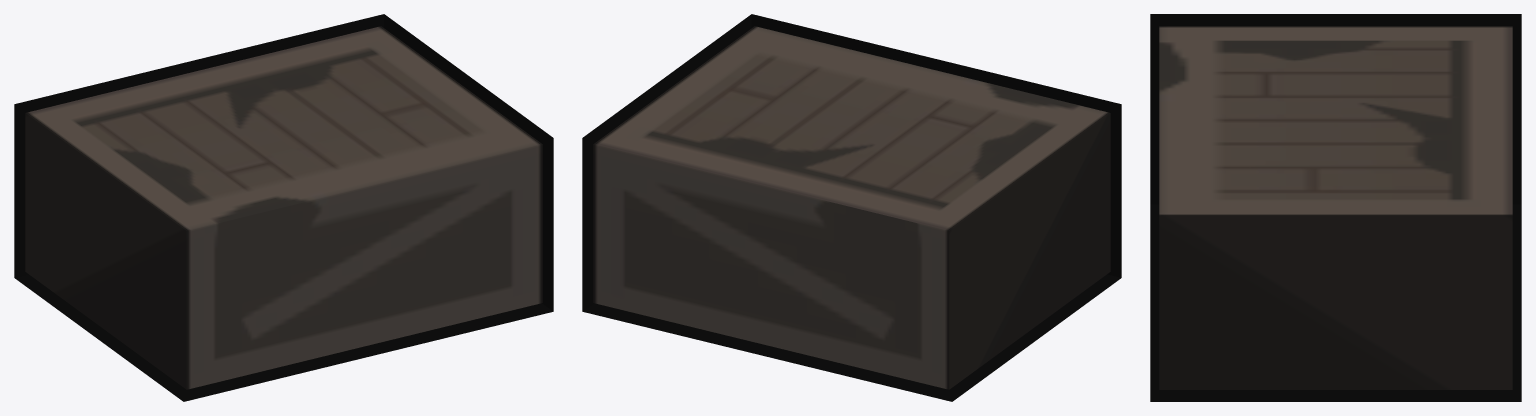
File: Building_AncientWoodenCrate_Things_Building_Ancient_Shipping_OldWoodenCrate_OldWoodenCrateF.glb
3 views of the same model, side by side, from view 1: azimuth 30°, elevation 25°; view 2: azimuth 150°, elevation 25°; view 3: azimuth 270°, elevation 25° (orthographic). The views are drawn at different scales.
Parts seen in each view (by area): view 1: Body, Outline; view 2: Body, Outline; view 3: Body, Outline.
Part boxes in pixels (<box>): Body: <box>25,26,542,389</box>; Outline: <box>14,14,553,401</box>; Body: <box>593,26,1110,389</box>; Outline: <box>582,14,1121,401</box>; Body: <box>1159,26,1512,389</box>; Outline: <box>1150,14,1521,401</box>.
Bounding box in the file's own units: 0.9423 × 0.4227 × 0.7476.
2 materials, 1 textured.
